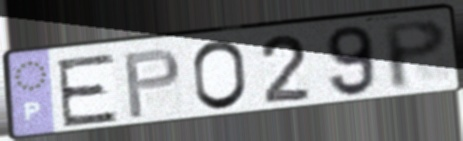2: (258, 32, 315, 107)
9: (325, 23, 378, 99)
E: (53, 50, 121, 129)
O: (190, 38, 251, 113)
P: (380, 16, 451, 93), (121, 46, 184, 122)
